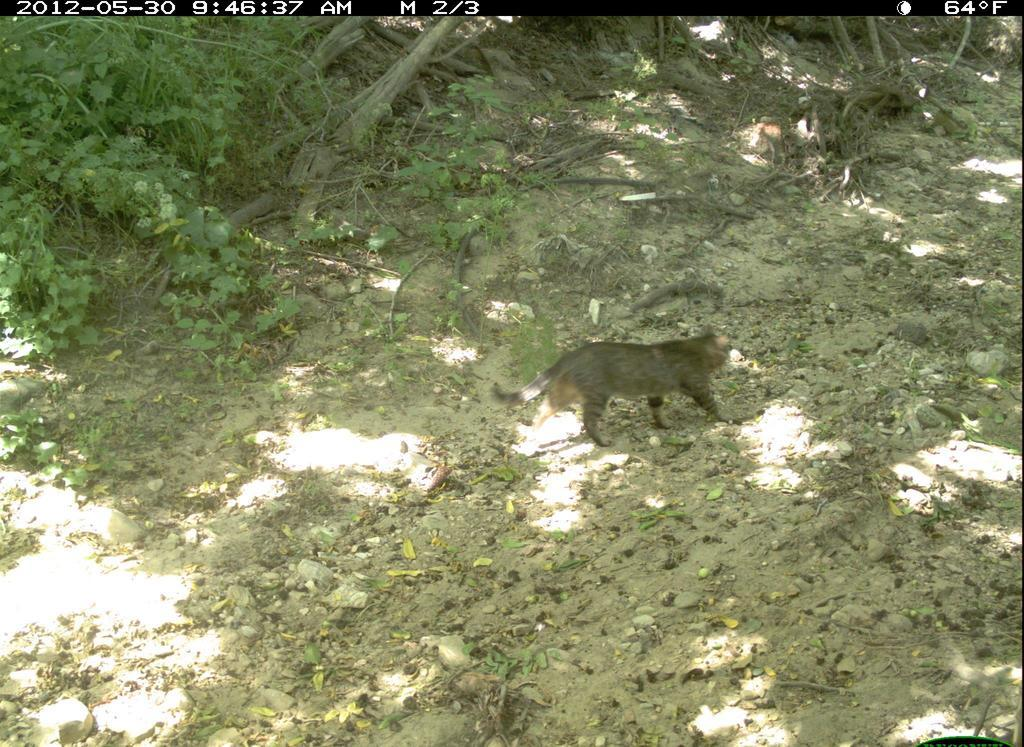cat: (475, 324, 761, 452)
